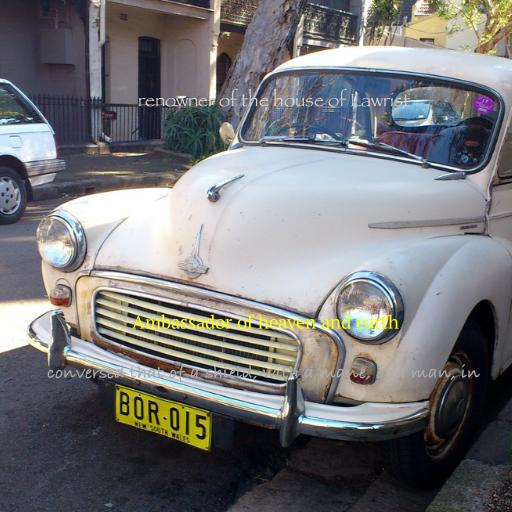Bradley Hand: (46, 364, 480, 383)
PT Serif: (131, 314, 399, 329)
Papyrus: (138, 88, 410, 107)
